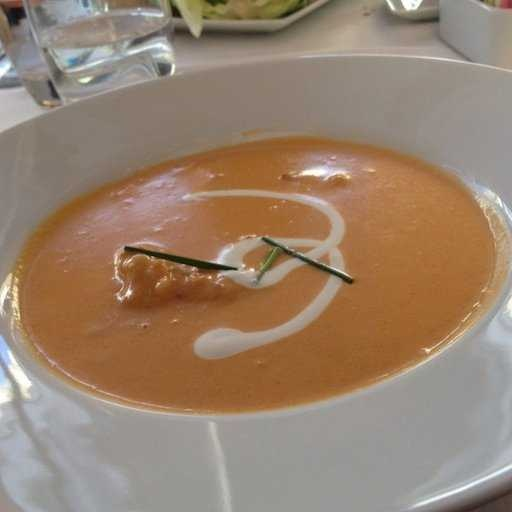soup: (3, 122, 485, 460)
